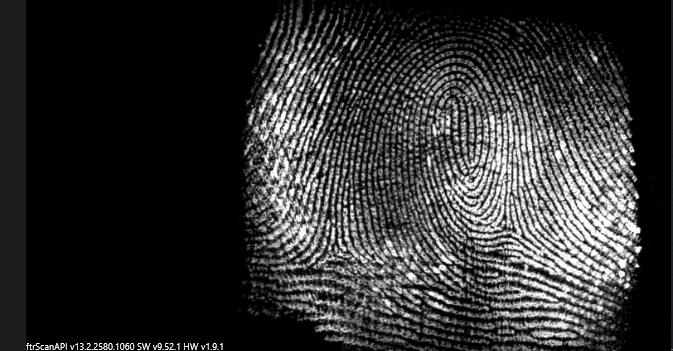deltas: (481, 201, 530, 251), (309, 218, 356, 269)
nucleo: (429, 80, 477, 128)
